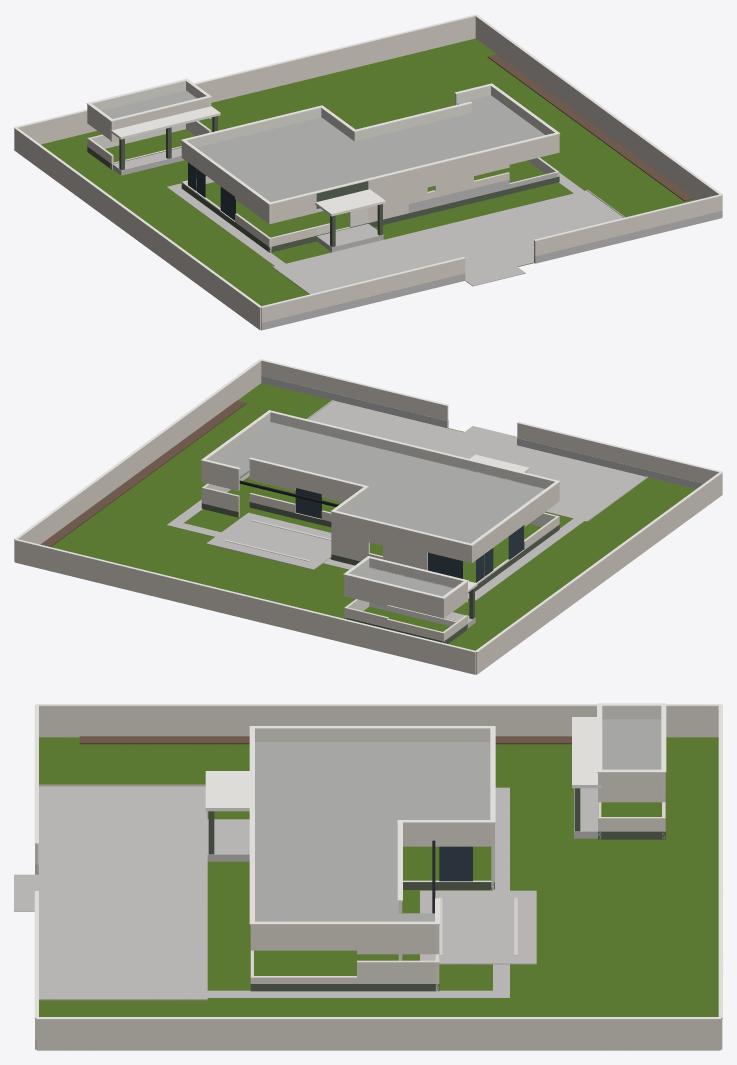
The model's file is est_S7_lod1.glb.
The picture shows the model from 3 angles, top to bottom: view 1: azimuth 30°, elevation 25°; view 2: azimuth 150°, elevation 25°; view 3: azimuth 270°, elevation 25°; orthographic projection. The views are drawn at different scales.
Parts seen in each view (by area): view 1: GR_est_S7_lod1; view 2: GR_est_S7_lod1; view 3: GR_est_S7_lod1.
Boxes of the visible parts, box(x1,y1,x2,y2) form: GR_est_S7_lod1: box(14, 14, 722, 330); GR_est_S7_lod1: box(14, 359, 722, 674); GR_est_S7_lod1: box(14, 703, 722, 1050).
Size of the model in its own units: 52.31 by 6.73 by 49.76.
3 materials, 1 textured.
